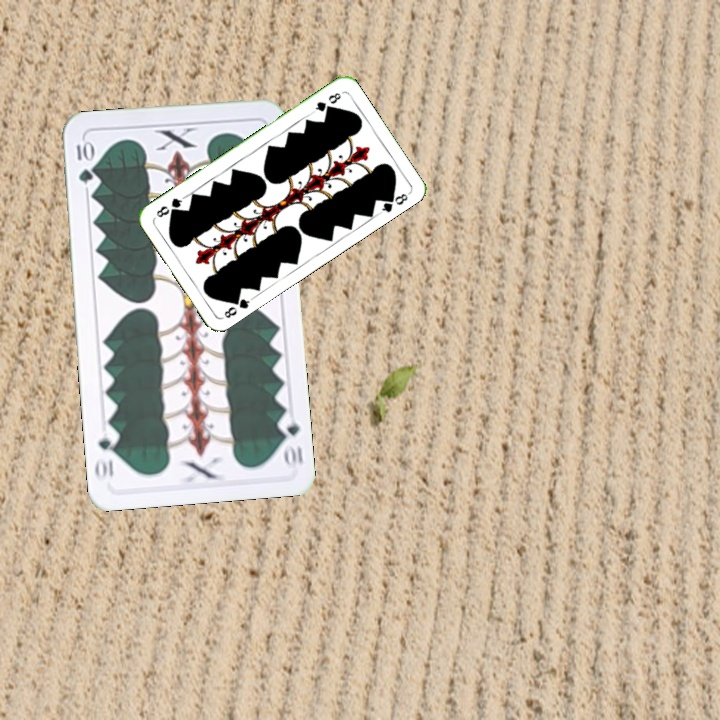G10: (275, 410, 306, 469), (72, 136, 96, 186)
G8: (219, 292, 255, 321), (309, 88, 344, 115)
